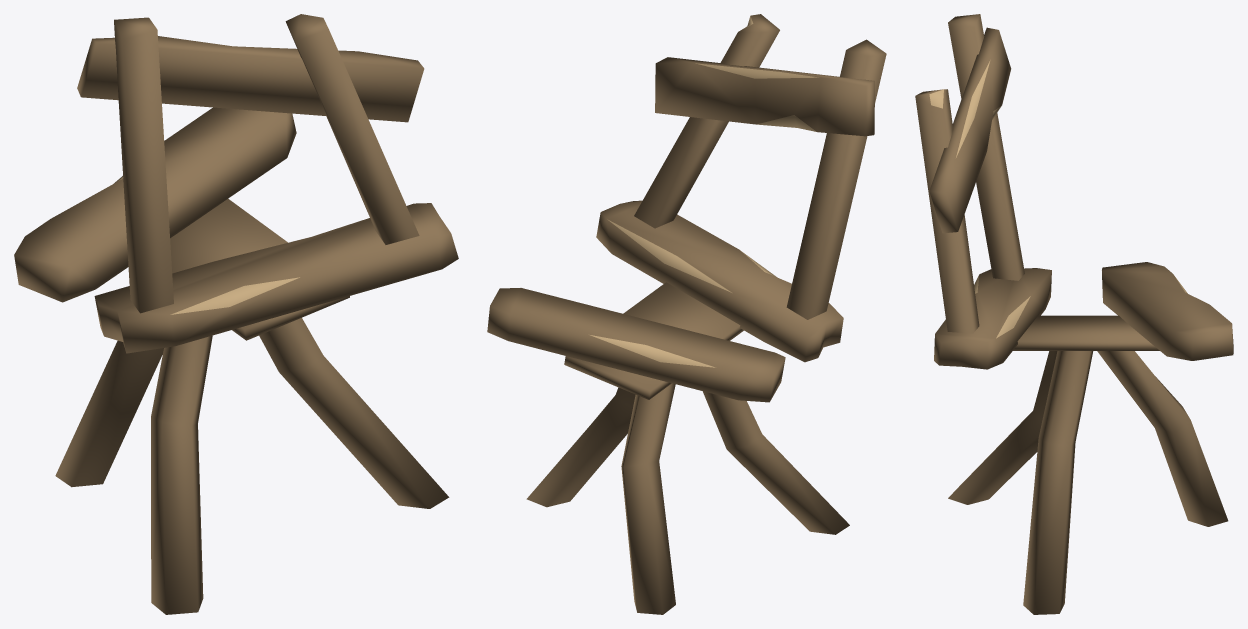
File: rpgpp_av_chair_02b.gltf
The picture shows the model from 3 angles, left to right: view 1: azimuth 30°, elevation 25°; view 2: azimuth 150°, elevation 25°; view 3: azimuth 270°, elevation 25°; orthographic projection. The views are drawn at different scales.
Parts seen in each view (by area): view 1: rpgpp_av_chair_02b; view 2: rpgpp_av_chair_02b; view 3: rpgpp_av_chair_02b.
Part boxes in pixels (x1,y1,x2,y2): rpgpp_av_chair_02b: (14, 14, 458, 614); rpgpp_av_chair_02b: (487, 14, 886, 614); rpgpp_av_chair_02b: (915, 14, 1233, 614).
Bounding box in the file's own units: 0.00515 × 0.0075 × 0.00469.
1 material, 1 textured.
